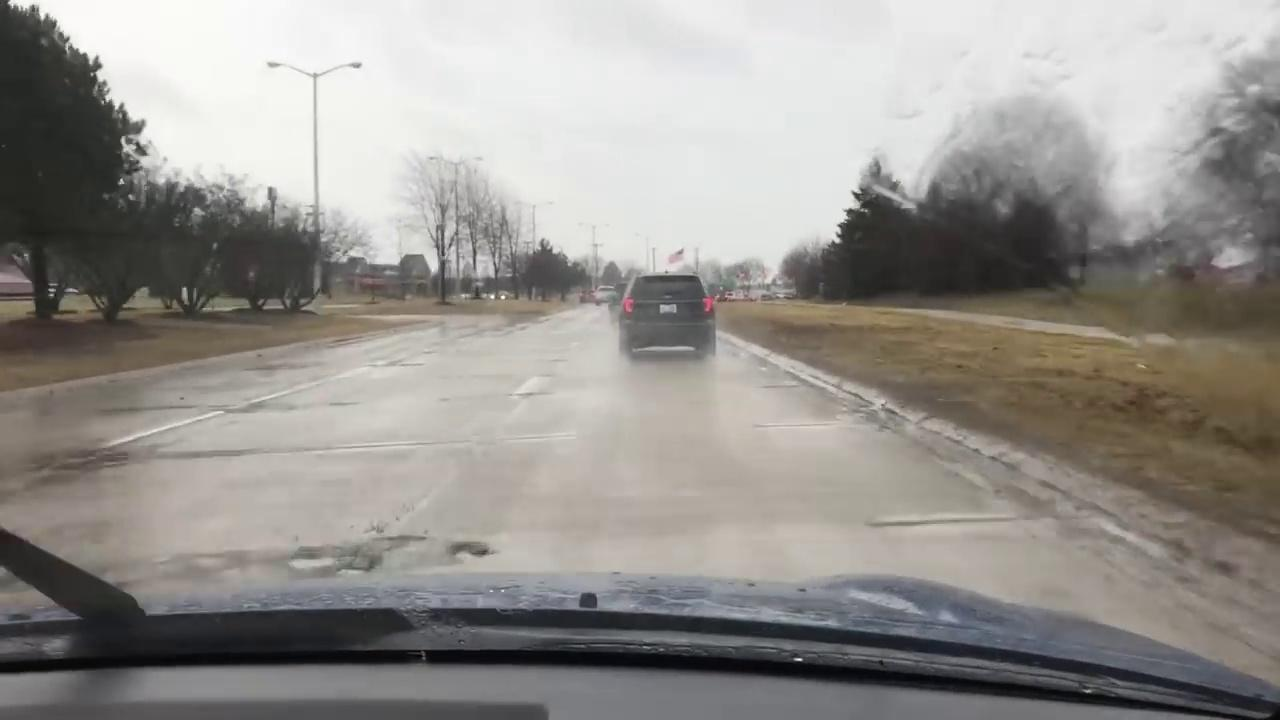pothole: (290, 548, 378, 576), (446, 538, 493, 566)
